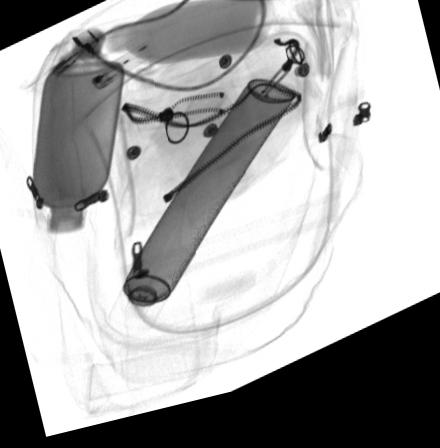Lighter: (86, 47, 156, 97)
Sprayer: (105, 90, 296, 342)
